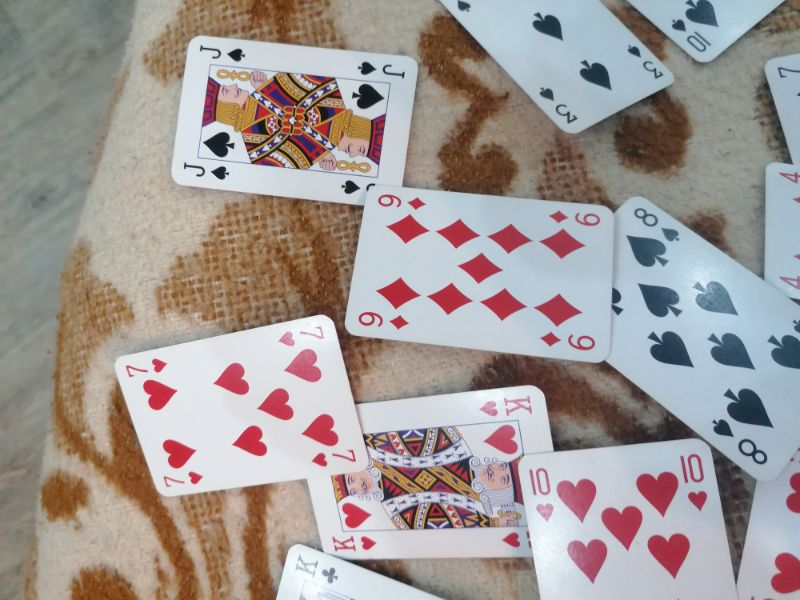3s: (535, 82, 581, 125), (623, 40, 667, 80)
7h: (277, 322, 327, 351), (120, 354, 171, 382), (310, 445, 358, 472), (161, 468, 206, 490)
8s: (706, 415, 770, 466), (631, 206, 686, 247)
9d: (536, 327, 598, 355), (355, 309, 414, 332), (547, 208, 604, 231), (375, 189, 428, 211)
Js: (193, 40, 249, 64), (354, 58, 408, 82), (179, 158, 232, 182)
Kc: (293, 553, 343, 585)
Kh: (477, 392, 537, 421), (328, 532, 381, 554)
Th: (676, 451, 713, 511), (525, 466, 557, 522)
Ts: (667, 14, 714, 55)
